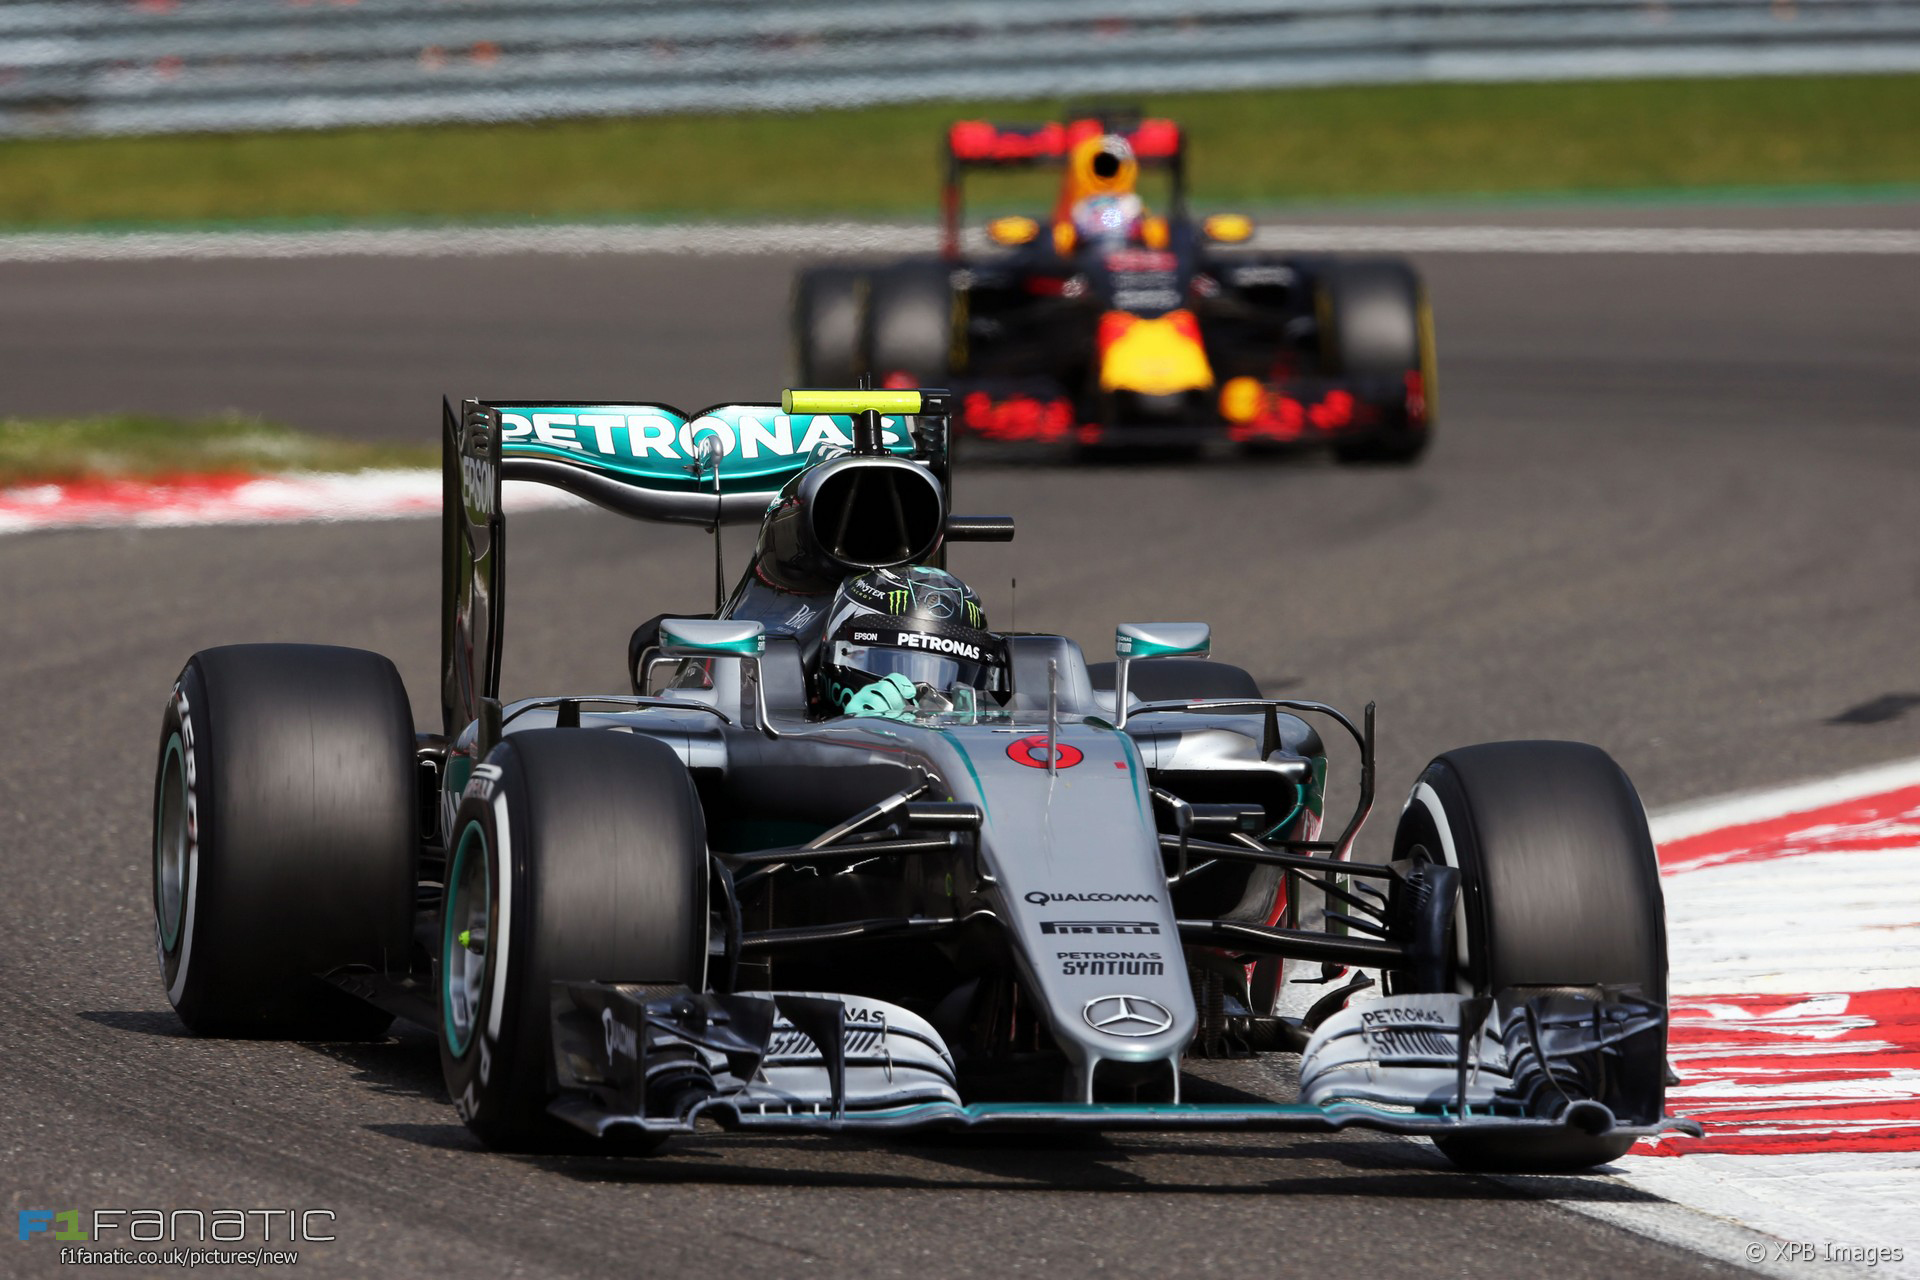F1 Car: (140, 379, 1716, 1181)
